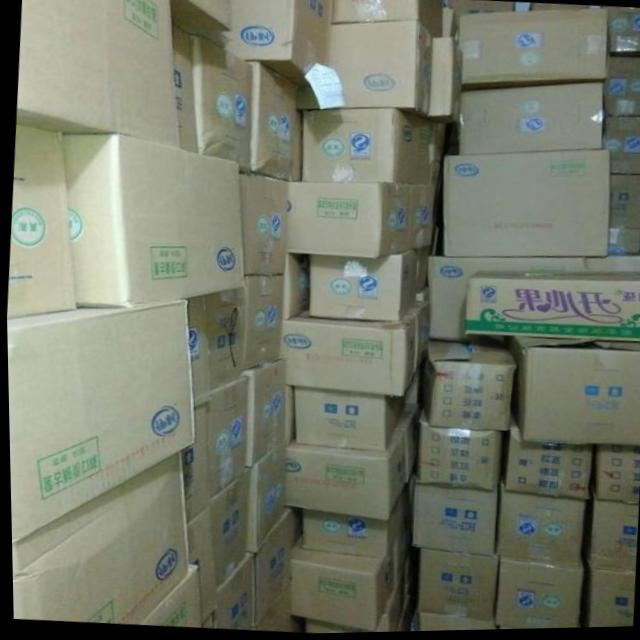box: (6, 301, 192, 542), (59, 134, 244, 308), (9, 455, 188, 625), (15, 0, 180, 150), (425, 259, 640, 346), (441, 151, 608, 258), (502, 339, 640, 449), (278, 300, 427, 399), (5, 125, 76, 317), (463, 273, 640, 344), (187, 0, 334, 85), (457, 12, 607, 93), (282, 431, 404, 521), (456, 84, 603, 157), (324, 23, 434, 120), (301, 111, 430, 186), (285, 183, 407, 260), (418, 337, 512, 433), (288, 542, 387, 631), (190, 35, 251, 173), (492, 481, 584, 566), (305, 252, 415, 322), (502, 417, 589, 504), (288, 388, 402, 451), (412, 414, 500, 493), (245, 61, 302, 182), (490, 557, 579, 631), (298, 497, 403, 557), (408, 485, 494, 558), (412, 550, 495, 624), (302, 579, 402, 635), (530, 6, 640, 55), (252, 510, 299, 624), (241, 174, 288, 277), (239, 361, 283, 469), (205, 378, 244, 498), (206, 473, 247, 586), (238, 275, 283, 371), (202, 290, 245, 389), (331, 0, 442, 38), (244, 447, 283, 553), (135, 565, 201, 627), (184, 502, 217, 622), (179, 392, 208, 524), (588, 503, 636, 572), (170, 24, 196, 151), (209, 555, 250, 631), (427, 39, 461, 126), (591, 447, 638, 508), (586, 568, 631, 630), (183, 298, 209, 397), (247, 588, 302, 633), (602, 118, 640, 176), (602, 61, 640, 118), (168, 0, 231, 32), (280, 253, 306, 321), (610, 176, 640, 232), (406, 187, 432, 251), (394, 411, 414, 481), (414, 615, 491, 633), (401, 356, 422, 410), (426, 124, 444, 186), (448, 1, 515, 16), (387, 535, 405, 589), (607, 231, 640, 256), (282, 385, 292, 448), (415, 250, 429, 293)
